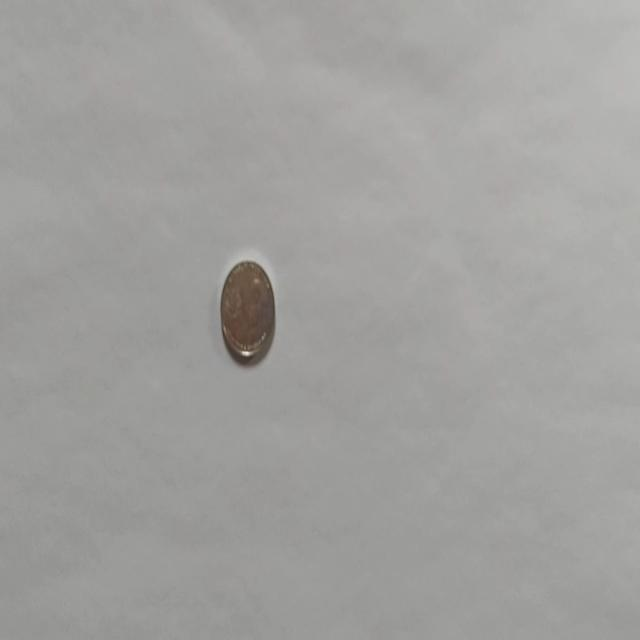lima ratus rupiah: (218, 258, 276, 362)
